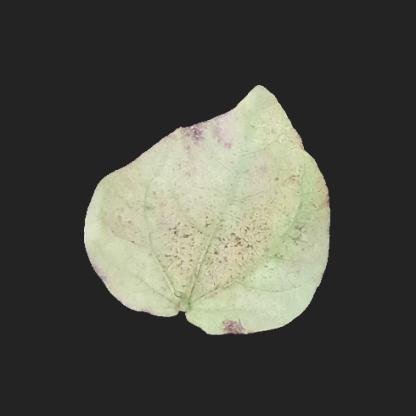curl_stage1: (134, 185, 297, 299), (219, 120, 293, 164), (89, 195, 129, 267)
